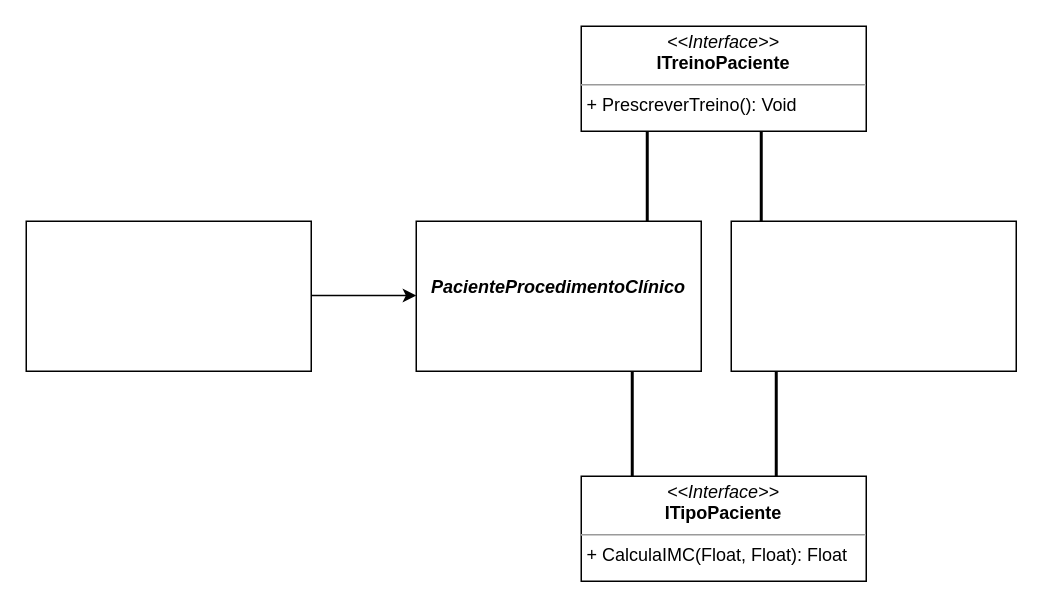
The diagram is 1043 pixels wide and 608 high, and some of its shapes have lost their labels. Here are the shapes that lost their labels. From the top down, the centre of each, then its label:
At point 168,295: "Paciente + Nome: String + Peso: Float + Altura: Float".
At point 873,295: "PacienteProcedimentoCirurgico".
